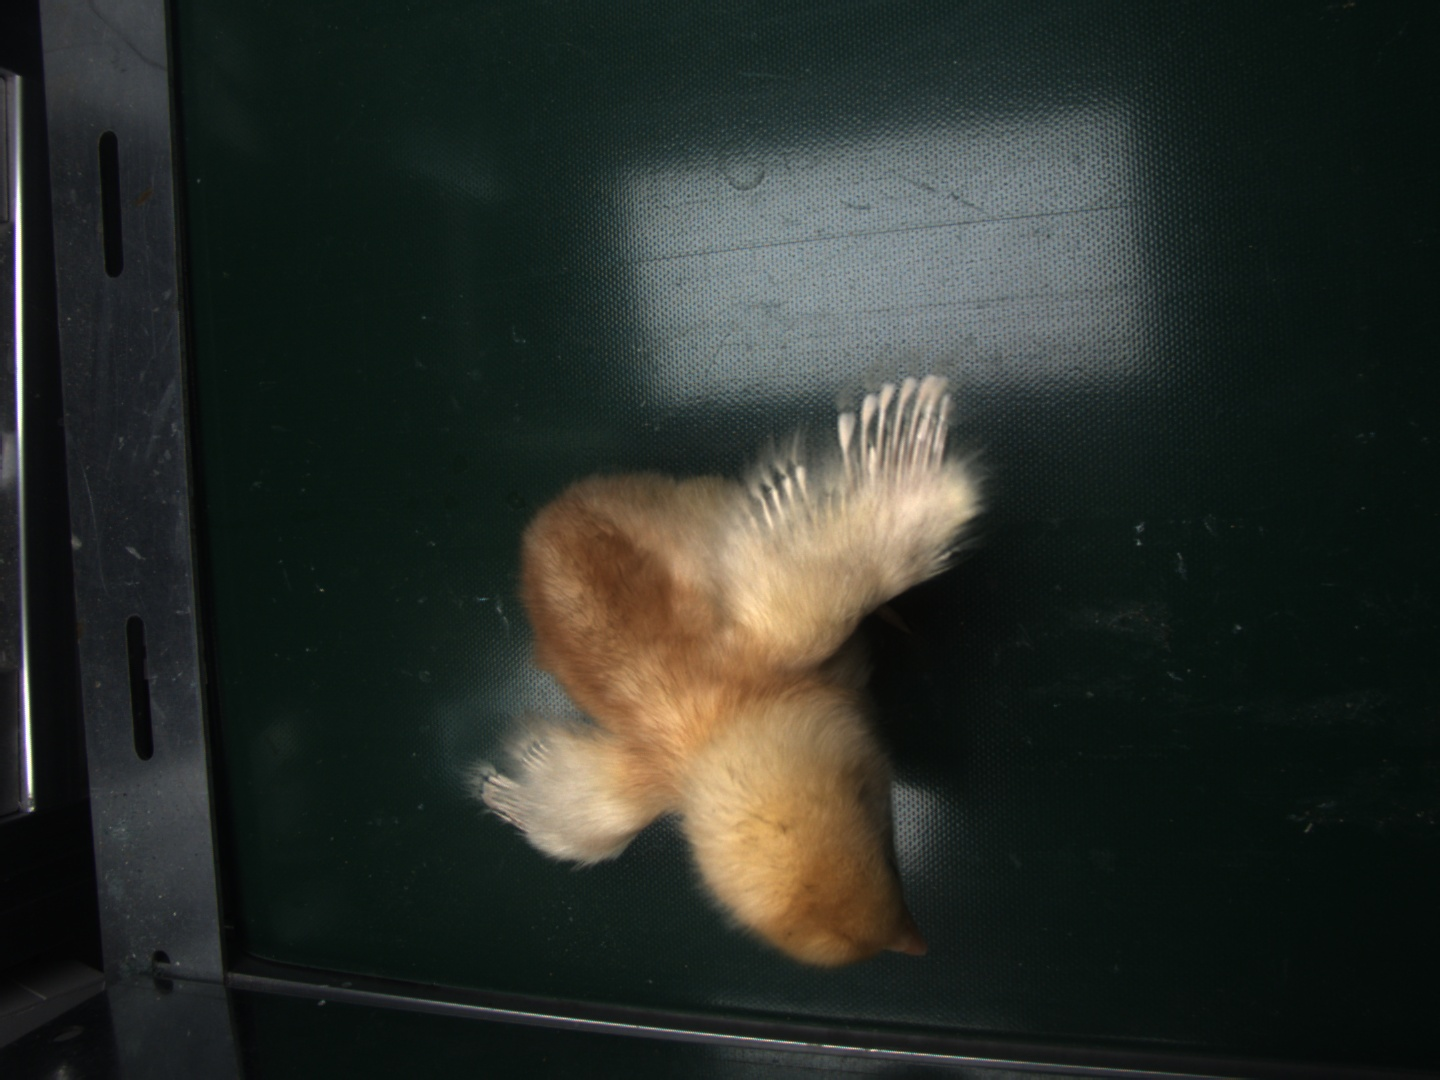female: (848, 372, 951, 472)
